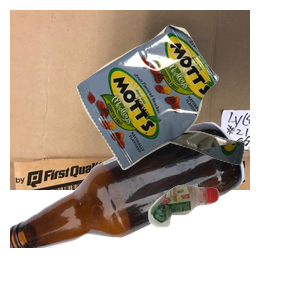cardboard: (10, 10, 250, 190)
glass: (10, 120, 247, 300)
plastic: (146, 182, 300, 300)
trash: (74, 22, 300, 185)
